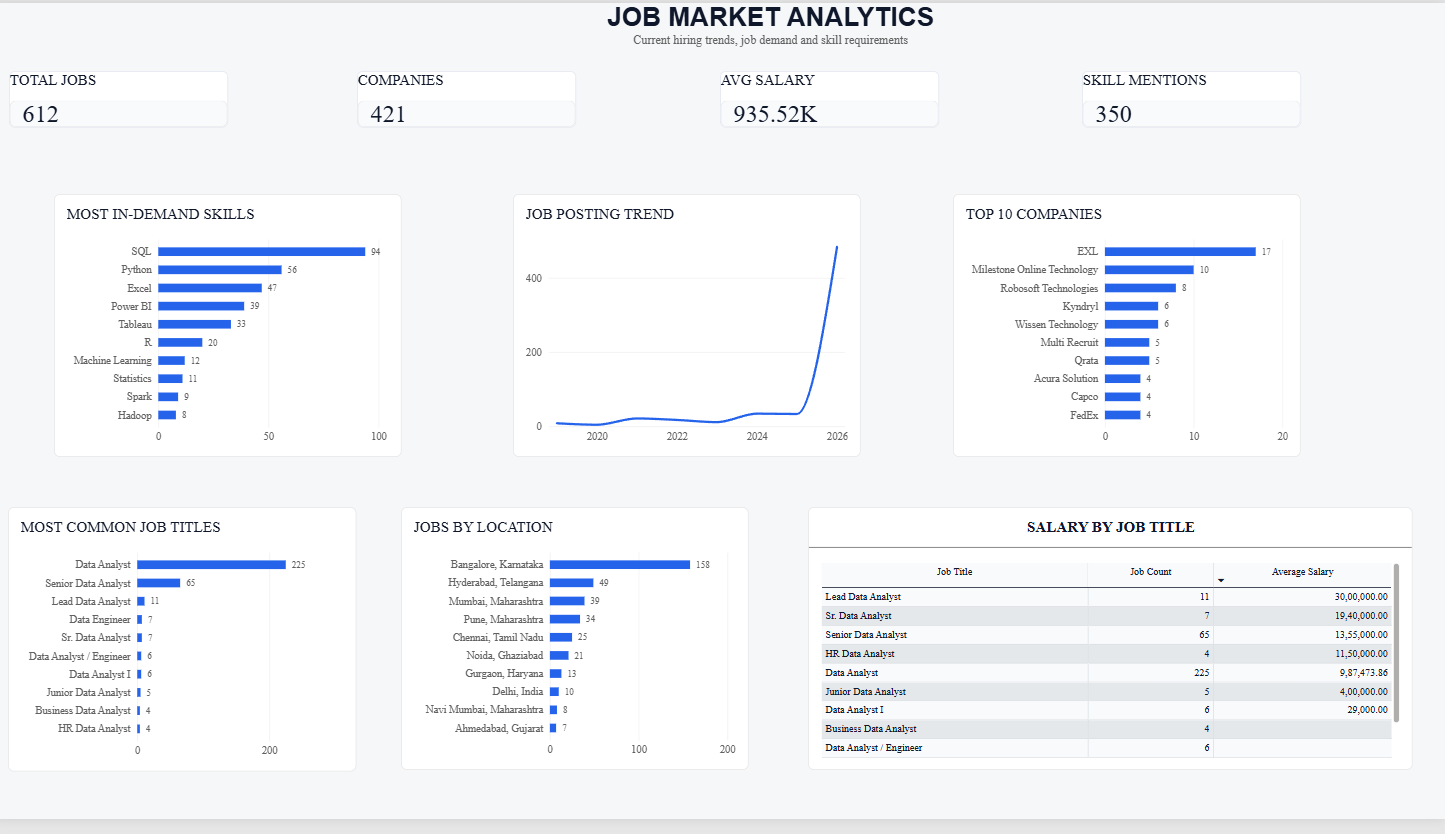

What the dashboard file says about the page in this screenshot:
{"tool":"powerbi","page":{"name":"Job Market Overview","canvas":[1920,1080],"ordinal":0},"visuals":[{"type":"textbox","title":"JOB MARKET ANALYTICS","box":[807.2,0,440.6,90],"z":0},{"type":"cardVisual","title":"TOTAL JOBS","fields":{"Data":["CountNonNull(public jobs.job_id)"]},"box":[20,90,290,75],"z":1000},{"type":"cardVisual","title":"COMPANIES","fields":{"Data":["Count(public jobs.company)"]},"box":[480,90,290,75],"z":2000},{"type":"cardVisual","title":"AVG SALARY","fields":{"Data":["Avg(public jobs.salary_avg)"]},"box":[960,90.2,290,75],"z":3000},{"type":"cardVisual","title":"JOB SKILL MATCHES","fields":{"Data":["CountNonNull(public job_skills.skill)"]},"box":[1440,90.2,290,75],"z":4000},{"type":"clusteredBarChart","title":"MOST IN-DEMAND SKILLS","fields":{"Category":["public skill_demand.skill"],"Y":["Sum(public skill_demand.job_count)"]},"box":[78.9,253.1,459.8,348.3],"z":5000},{"type":"barChart","title":"JOBS BY LOCATION","fields":{"Category":["public location_demand.location"],"Y":["Sum(public location_demand.job_count)"]},"box":[538.7,666.5,459.8,348.3],"z":6000},{"type":"lineChart","title":"JOB POSTING TREND","fields":{"Category":["public hiring_trend.posting_date.Variation.Date Hierarchy.Year","public hiring_trend.posting_date.Variation.Date Hierarchy.Quarter","public hiring_trend.posting_date.Variation.Date Hierarchy.Month","public hiring_trend.posting_date.Variation.Date Hierarchy.Day"],"Y":["Sum(public hiring_trend.job_count)"]},"box":[686.6,253.1,459.8,348.3],"z":7000},{"type":"clusteredBarChart","title":"TOP 10 COMPANIES","fields":{"Category":["public company_demand.company"],"Y":["Sum(public company_demand.job_count)"]},"box":[1269.2,253.1,459.8,348.3],"z":8000},{"type":"barChart","title":"MOST COMMON JOB TITLES","fields":{"Category":["public job_title_demand.job_title"],"Y":["Sum(public job_title_demand.job_count)"]},"box":[18.8,666.5,461.1,349.6],"z":8001},{"type":"tableEx","title":"SALARY BY JOB TITLE","fields":{"Values":["public job_title_demand.job_title","Sum(public job_title_demand.job_count)","Avg(public job_title_demand.average_salary)"]},"box":[1077.5,666.5,800,348],"z":8002}]}

Visuals, with their boxes in screenshot pixels (x1, y1, x2, y2), scaled from the page's 1920x1080 canvas onto the 1445x834 screenshot:
"JOB MARKET ANALYTICS" textbox: left=608, top=0, right=939, bottom=70
"TOTAL JOBS" cardVisual: left=15, top=70, right=233, bottom=127
"COMPANIES" cardVisual: left=361, top=70, right=580, bottom=127
"AVG SALARY" cardVisual: left=722, top=70, right=941, bottom=128
"JOB SKILL MATCHES" cardVisual: left=1084, top=70, right=1302, bottom=128
"MOST IN-DEMAND SKILLS" clusteredBarChart: left=59, top=195, right=405, bottom=464
"JOBS BY LOCATION" barChart: left=405, top=515, right=751, bottom=784
"JOB POSTING TREND" lineChart: left=517, top=195, right=863, bottom=464
"TOP 10 COMPANIES" clusteredBarChart: left=955, top=195, right=1301, bottom=464
"MOST COMMON JOB TITLES" barChart: left=14, top=515, right=361, bottom=785
"SALARY BY JOB TITLE" tableEx: left=811, top=515, right=1413, bottom=783
